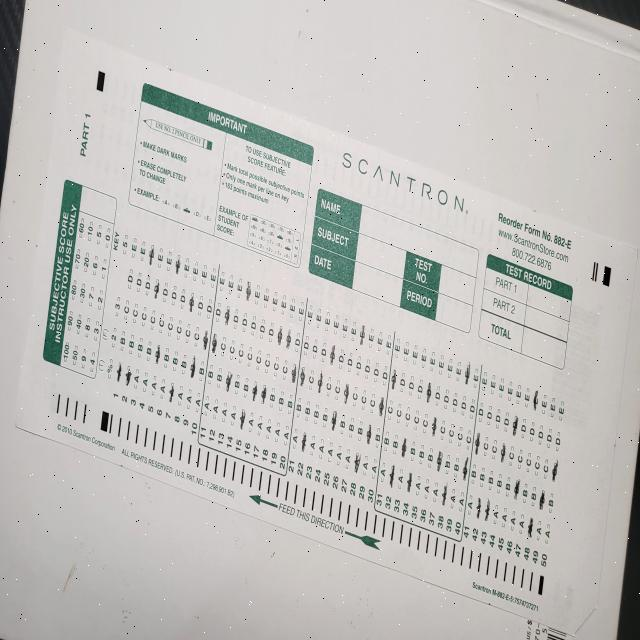scantron: (14, 28, 638, 637)
